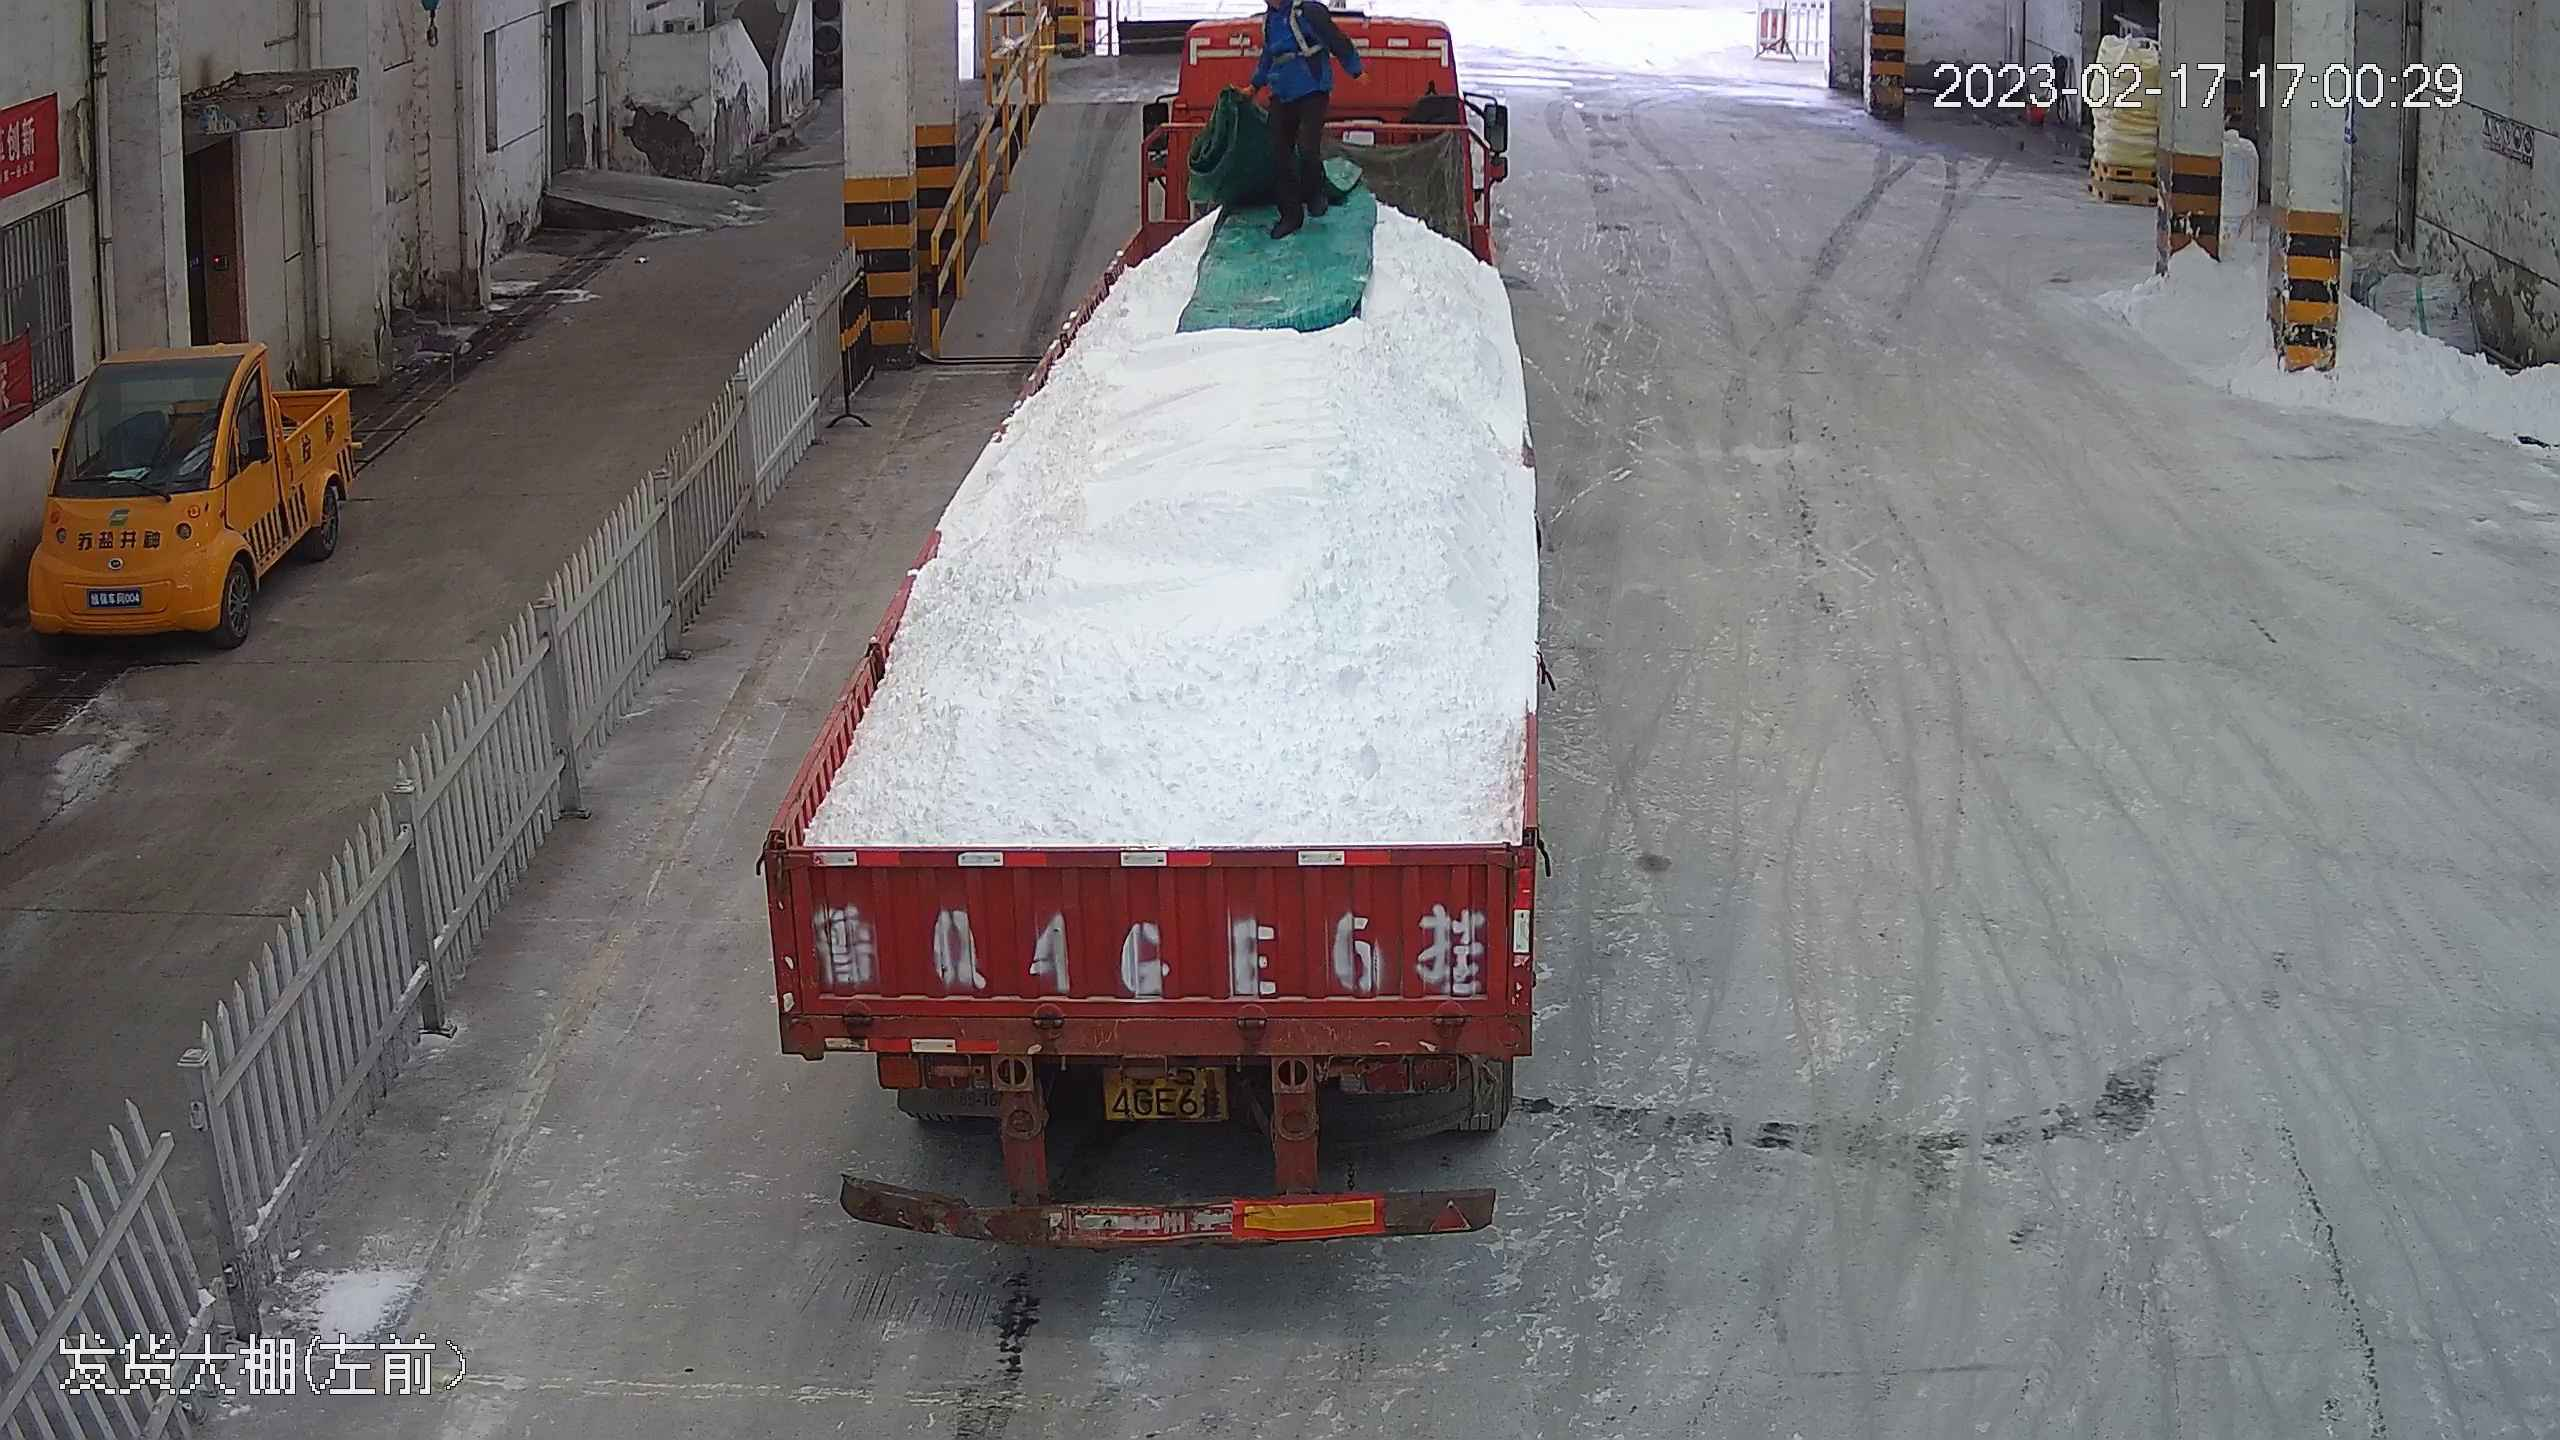people: (1242, 1, 1371, 241)
truck: (753, 10, 1547, 1252)
